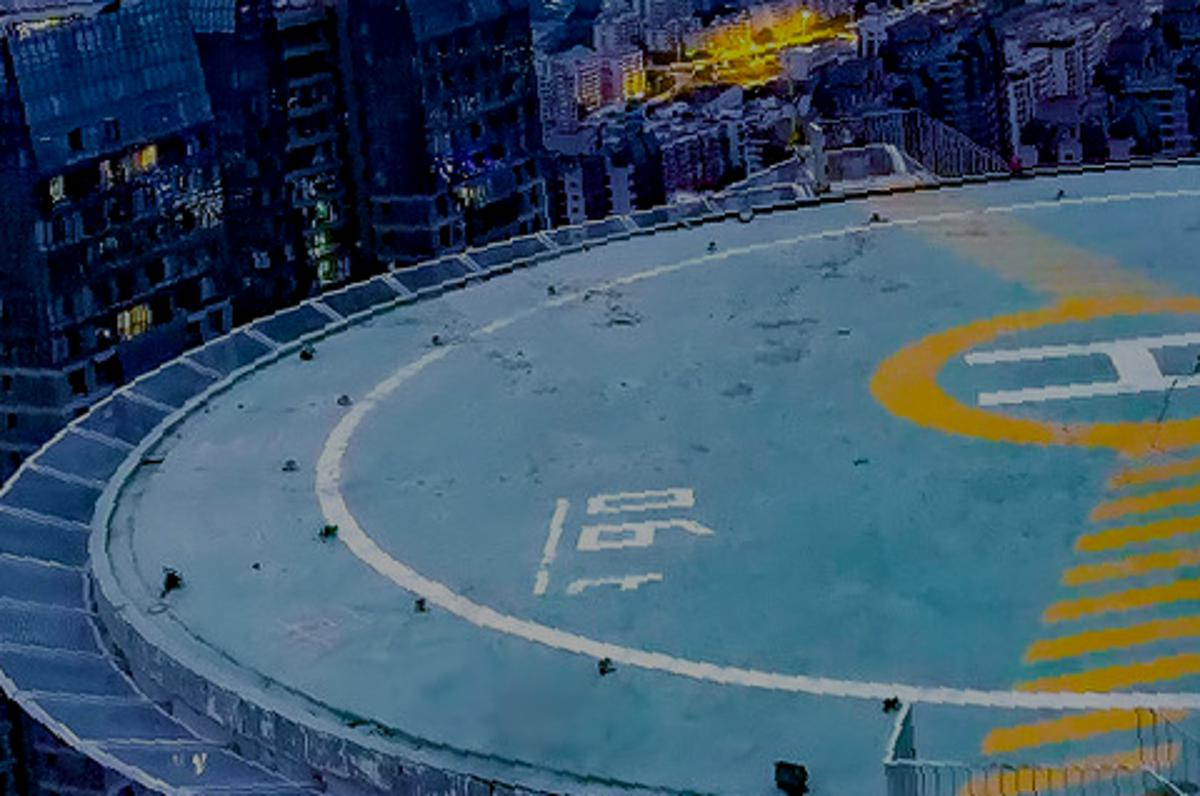Apron: (868, 290, 1200, 456)
